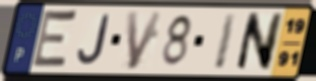8: (159, 13, 193, 69)
E: (29, 7, 80, 72)
I: (211, 12, 239, 72)
J: (75, 13, 112, 67)
N: (233, 11, 286, 73)
V: (125, 9, 166, 72)
